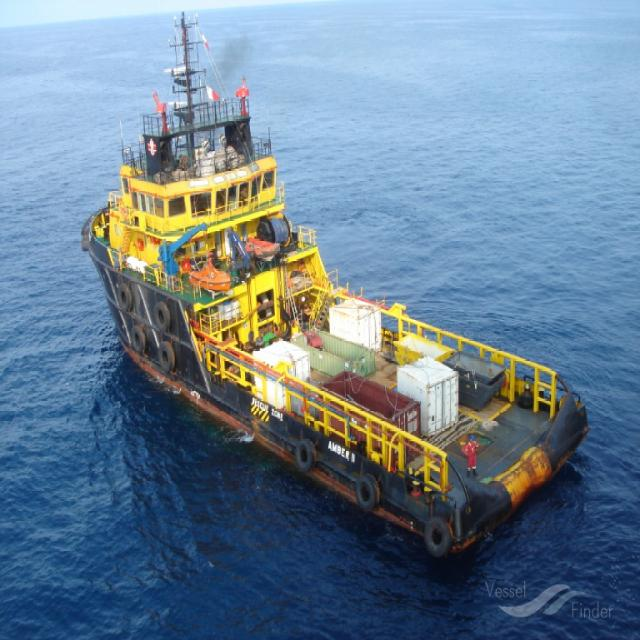OCR: (241, 388, 287, 428), (321, 434, 357, 467)
